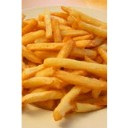frenchfries: (21, 6, 107, 118)
